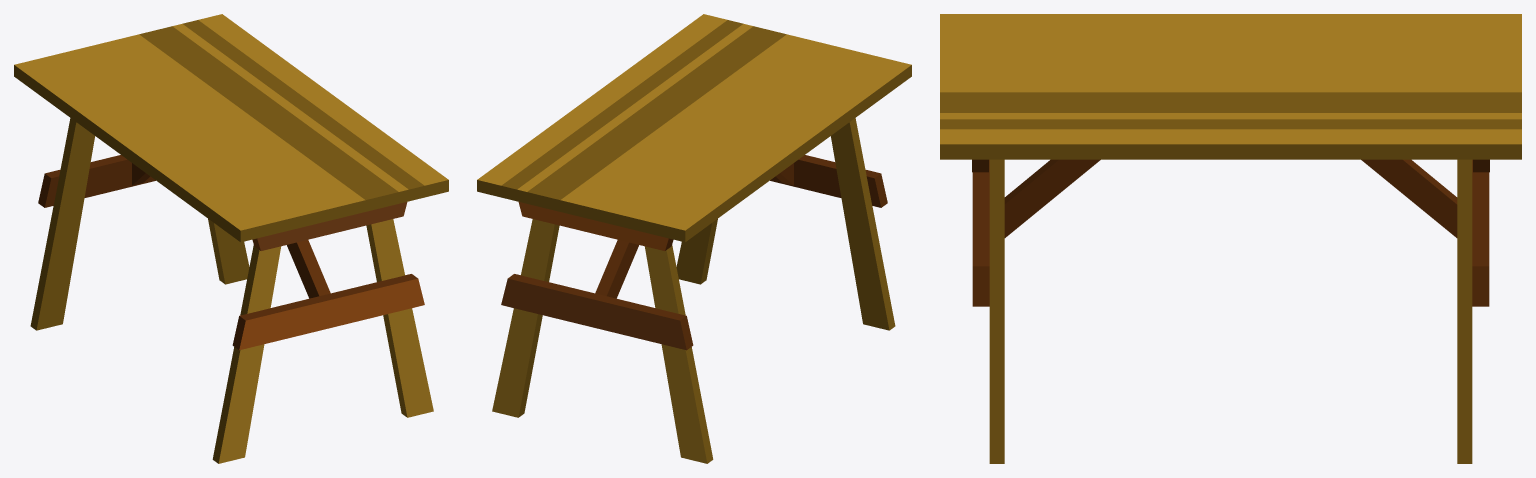
The model's file is table.fbx.
The picture shows the model from 3 angles, left to right: view 1: azimuth 30°, elevation 25°; view 2: azimuth 150°, elevation 25°; view 3: azimuth 270°, elevation 25°; orthographic projection. The views are drawn at different scales.
Parts seen in each view (by area): view 1: table; view 2: table; view 3: table.
Part boxes in pixels (<box>): table: <box>14,14,448,463</box>; table: <box>477,14,911,463</box>; table: <box>940,14,1521,463</box>.
Bounding box in the file's own units: 4.93 × 5.4 × 8.98.
1 material, 1 textured.
